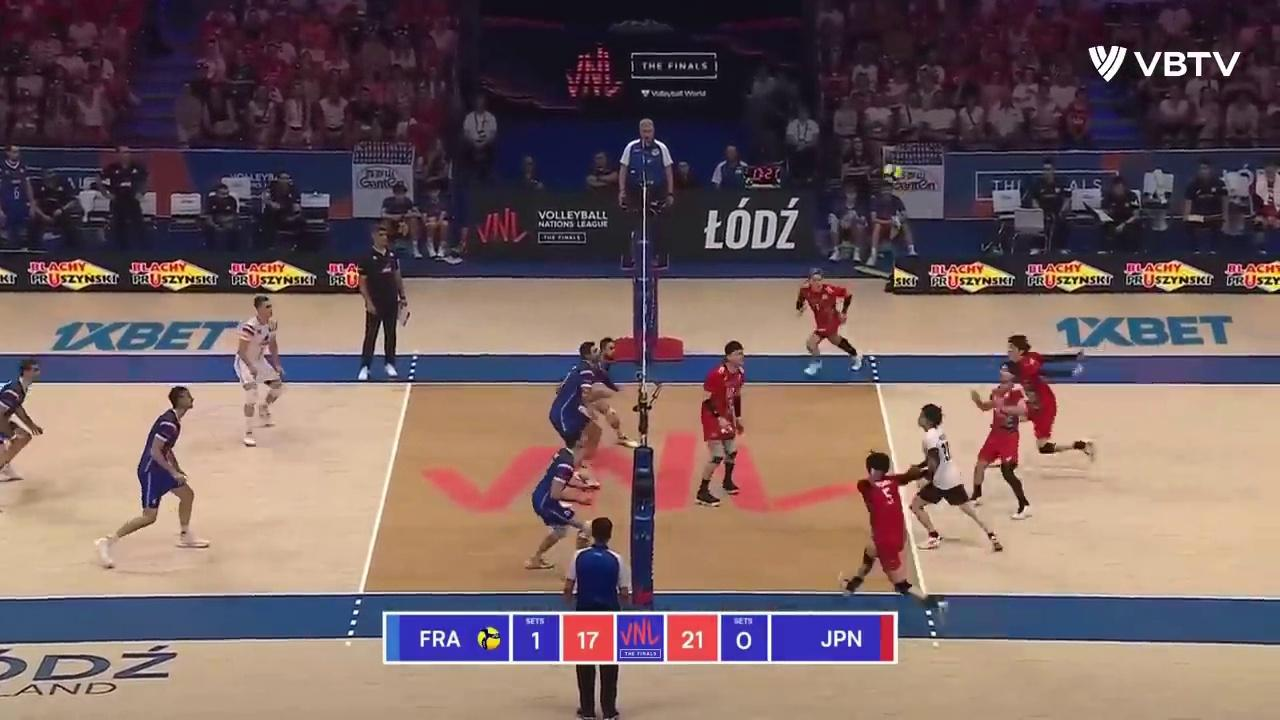ball: (882, 164, 902, 181)
